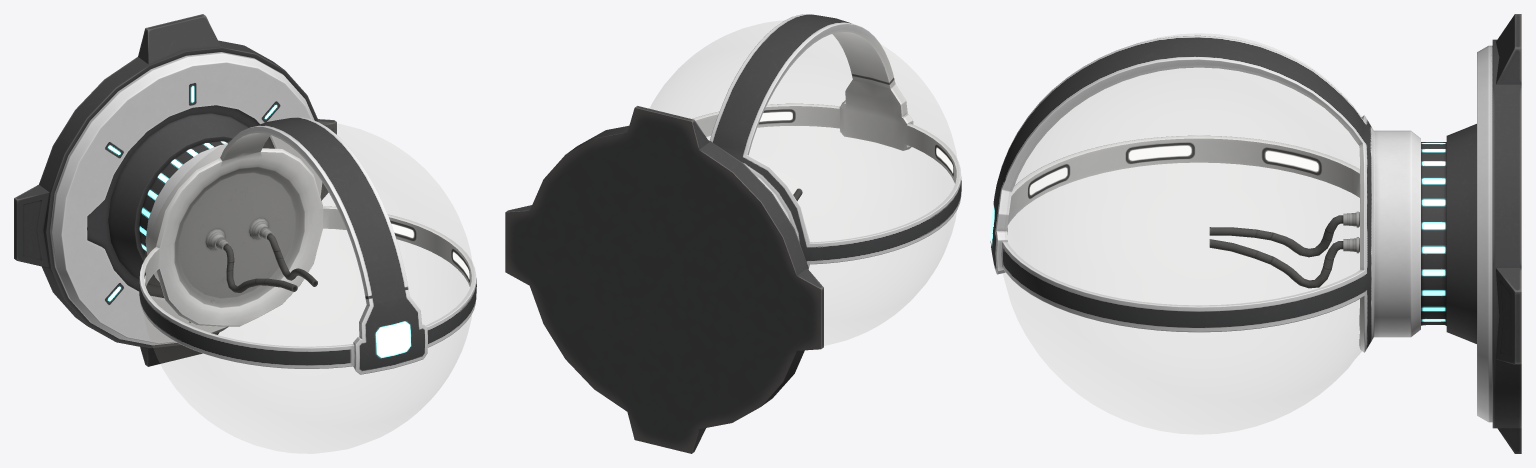
The model's file is LabCapsuleWomb03.FBX.
3 renders of one model, left to right at view 1: azimuth 30°, elevation 25°; view 2: azimuth 150°, elevation 25°; view 3: azimuth 270°, elevation 25°, orthographic. The views are drawn at different scales.
Visible parts, largest first — view 1: LabCapsuleWomb03, Glass; view 2: LabCapsuleWomb03, Glass; view 3: Glass, LabCapsuleWomb03.
Boxes of the visible parts, x1=… form: LabCapsuleWomb03: x1=14, y1=14, x2=476, y2=374; Glass: x1=143, y1=122, x2=472, y2=453; LabCapsuleWomb03: x1=505, y1=14, x2=961, y2=453; Glass: x1=650, y1=21, x2=957, y2=345; Glass: x1=1003, y1=34, x2=1361, y2=433; LabCapsuleWomb03: x1=990, y1=14, x2=1521, y2=453.
Size of what is drawn, in the model's own units: 1.51 by 1.52 by 1.81.
